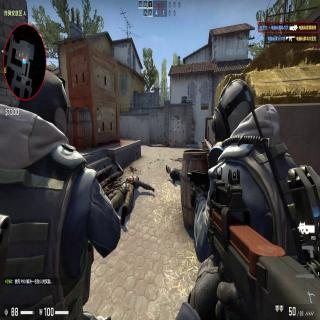CT-Head: (213, 78, 253, 136)
T-Head: (166, 162, 172, 175)
